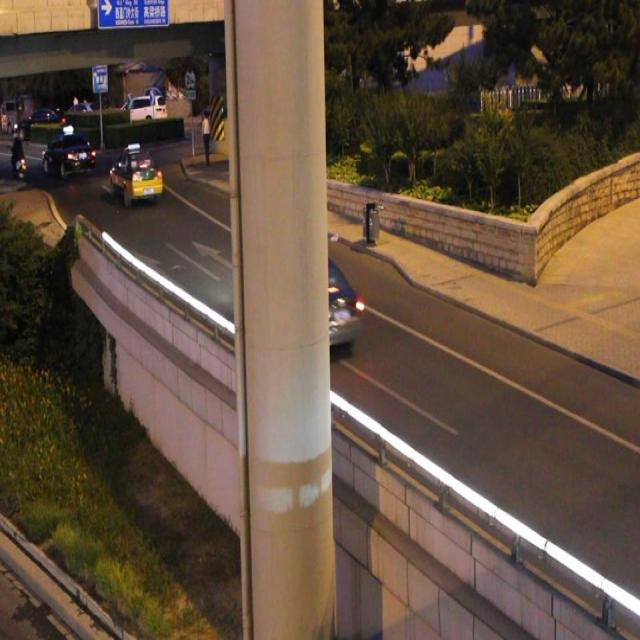car: (252, 256, 359, 352), (109, 150, 162, 200), (45, 137, 94, 177)
